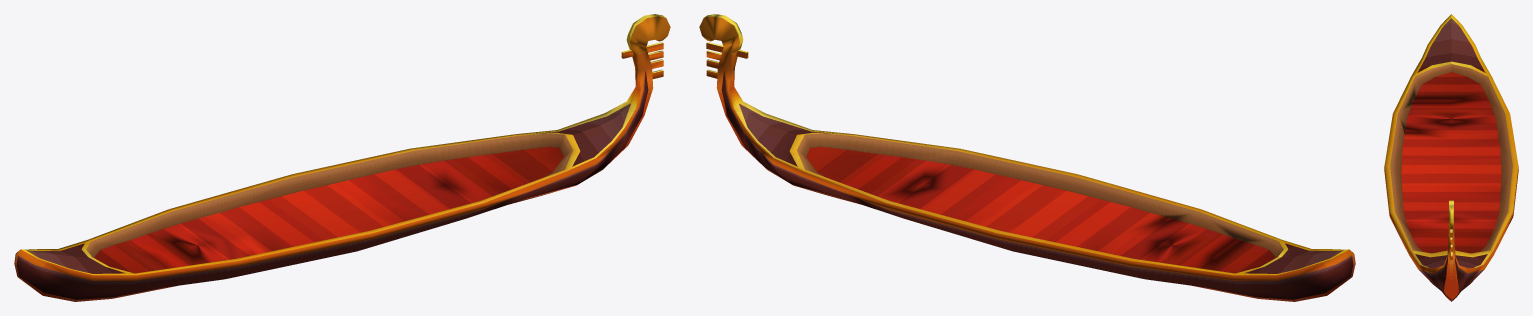
Rendered from VeniceBoard.glb.
The picture shows the model from 3 angles, left to right: view 1: azimuth 30°, elevation 25°; view 2: azimuth 150°, elevation 25°; view 3: azimuth 270°, elevation 25°; orthographic projection. The views are drawn at different scales.
Parts seen in each view (by area): view 1: VeniceBoard; view 2: VeniceBoard; view 3: VeniceBoard.
Part boxes in pixels (x1,y1,x2,y2): VeniceBoard: (14, 14, 670, 301); VeniceBoard: (699, 14, 1355, 301); VeniceBoard: (1384, 14, 1518, 301).
Bounding box in the file's own units: 15.47 × 3.55 × 3.31.
1 material, 1 textured.
